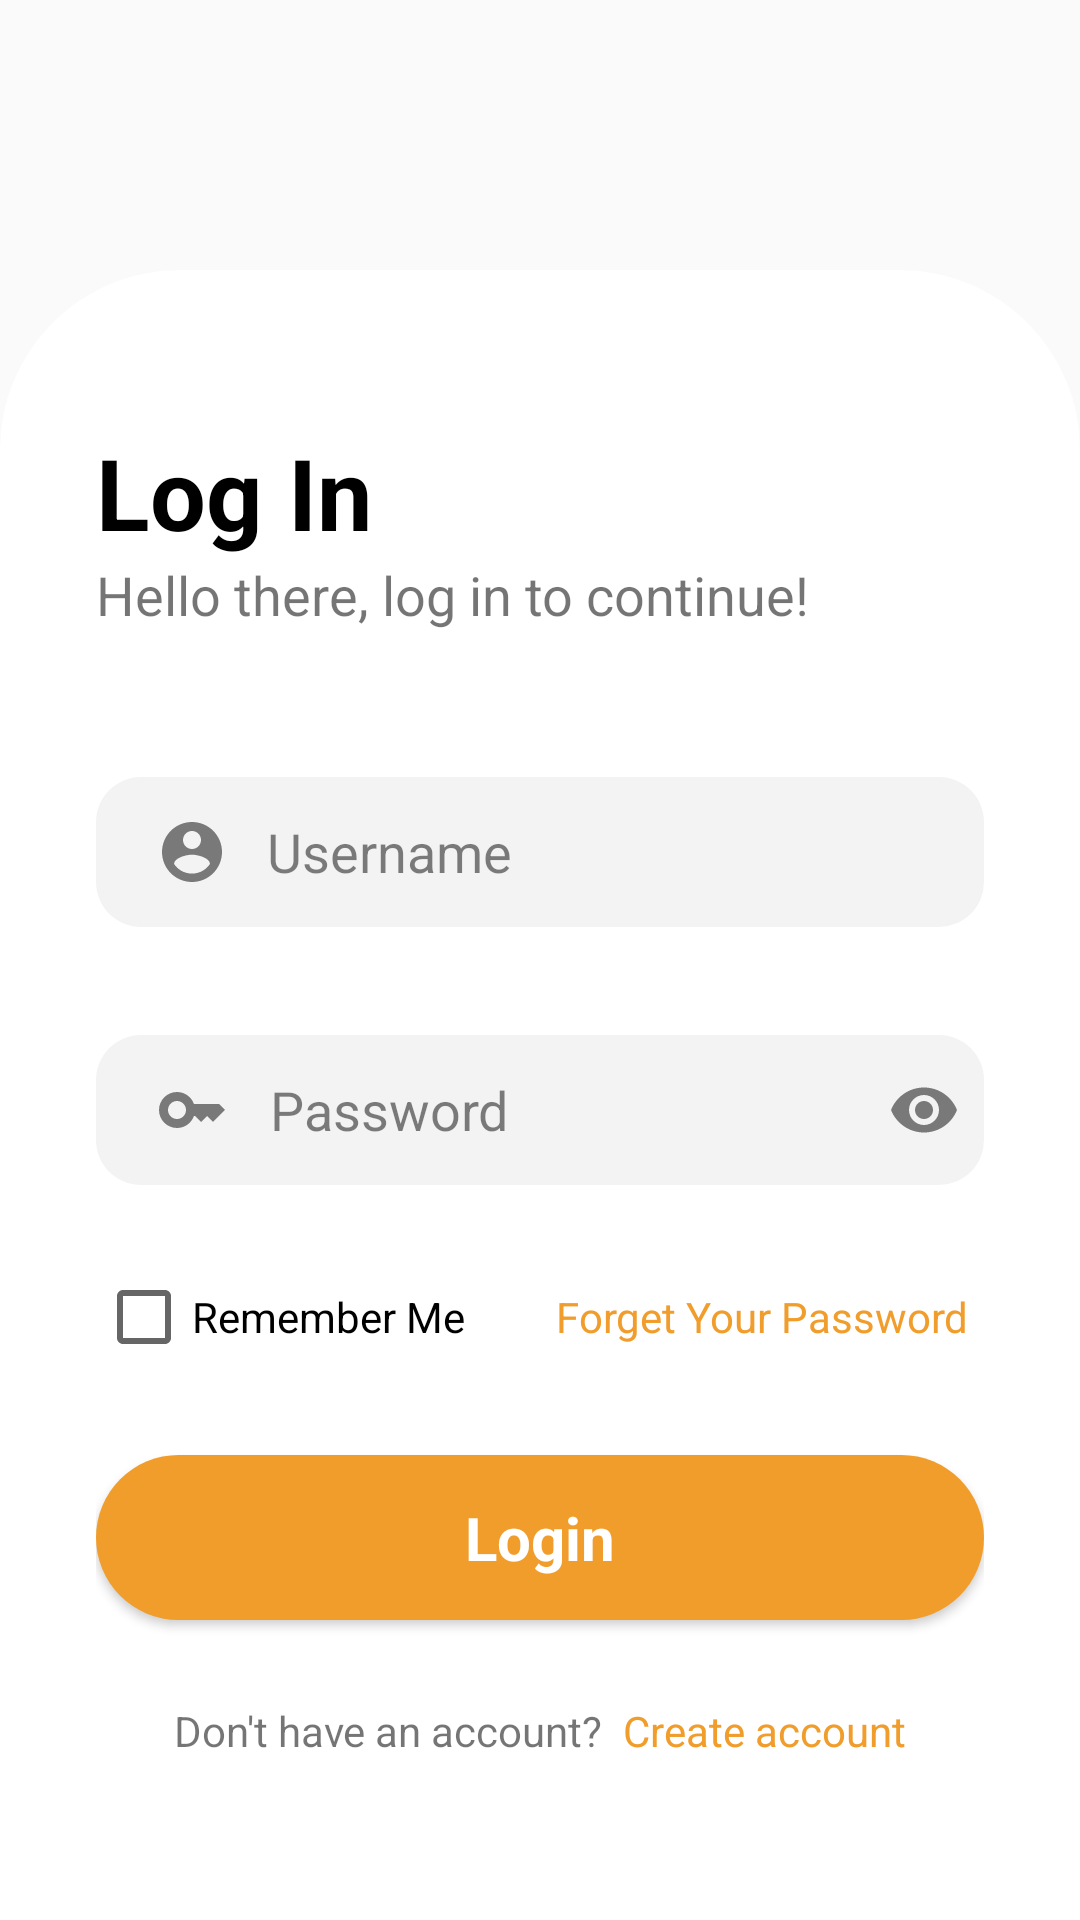

Where icons sit on this 1080 × 1920 app screen, as (x1, y1, x2, y2):
key: (159, 1092, 225, 1128)
